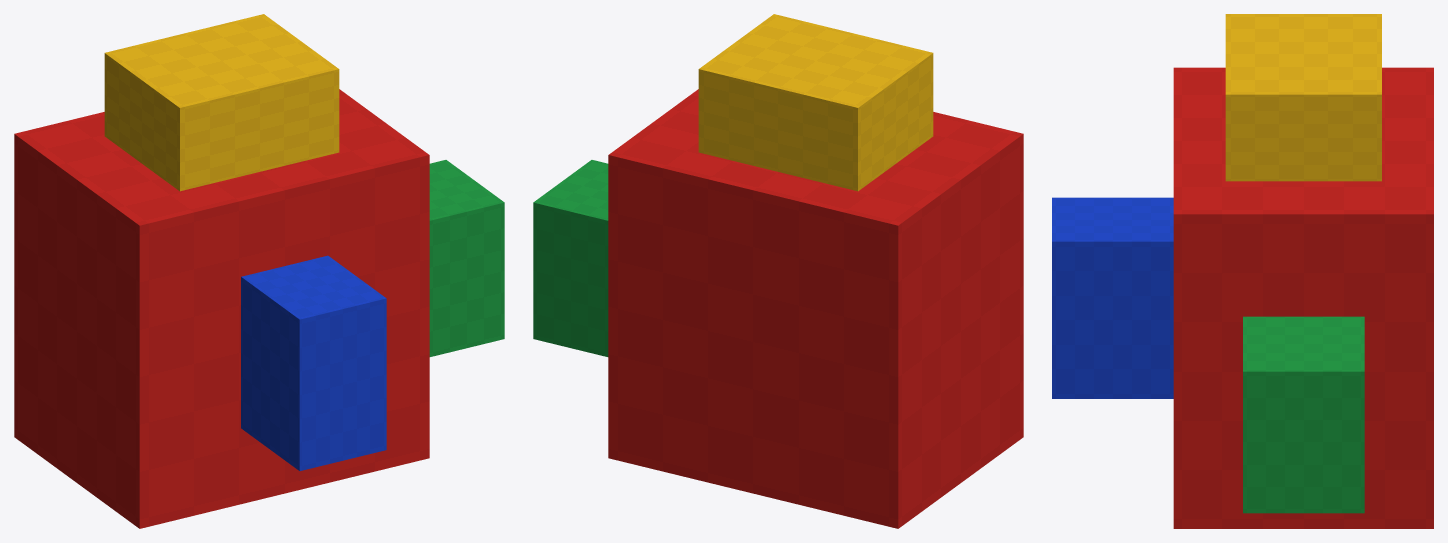
The model's file is probe_textured.glb.
The picture shows the model from 3 angles, left to right: view 1: azimuth 30°, elevation 25°; view 2: azimuth 150°, elevation 25°; view 3: azimuth 270°, elevation 25°; orthographic projection. The views are drawn at different scales.
Visible parts, largest first — view 1: Probe_Textured_Base, Probe_Textured_Top, Probe_Textured_PositiveZ, Probe_Textured_PositiveX; view 2: Probe_Textured_Base, Probe_Textured_Top, Probe_Textured_PositiveX; view 3: Probe_Textured_Base, Probe_Textured_Top, Probe_Textured_PositiveZ, Probe_Textured_PositiveX.
Boxes of the visible parts, left/top/right/bottom form: Probe_Textured_Base: left=14, top=89, right=429, bottom=528; Probe_Textured_Top: left=104, top=14, right=339, bottom=191; Probe_Textured_PositiveZ: left=241, top=255, right=386, bottom=470; Probe_Textured_PositiveX: left=429, top=160, right=504, bottom=356; Probe_Textured_Base: left=608, top=89, right=1023, bottom=528; Probe_Textured_Top: left=698, top=14, right=933, bottom=191; Probe_Textured_PositiveX: left=533, top=160, right=608, bottom=356; Probe_Textured_Base: left=1173, top=67, right=1433, bottom=528; Probe_Textured_Top: left=1225, top=14, right=1381, bottom=181; Probe_Textured_PositiveZ: left=1052, top=197, right=1173, bottom=398; Probe_Textured_PositiveX: left=1243, top=316, right=1364, bottom=513.
Bounding box in the file's own units: 1.1 × 1.02 × 0.88.
1 material, 1 textured.
